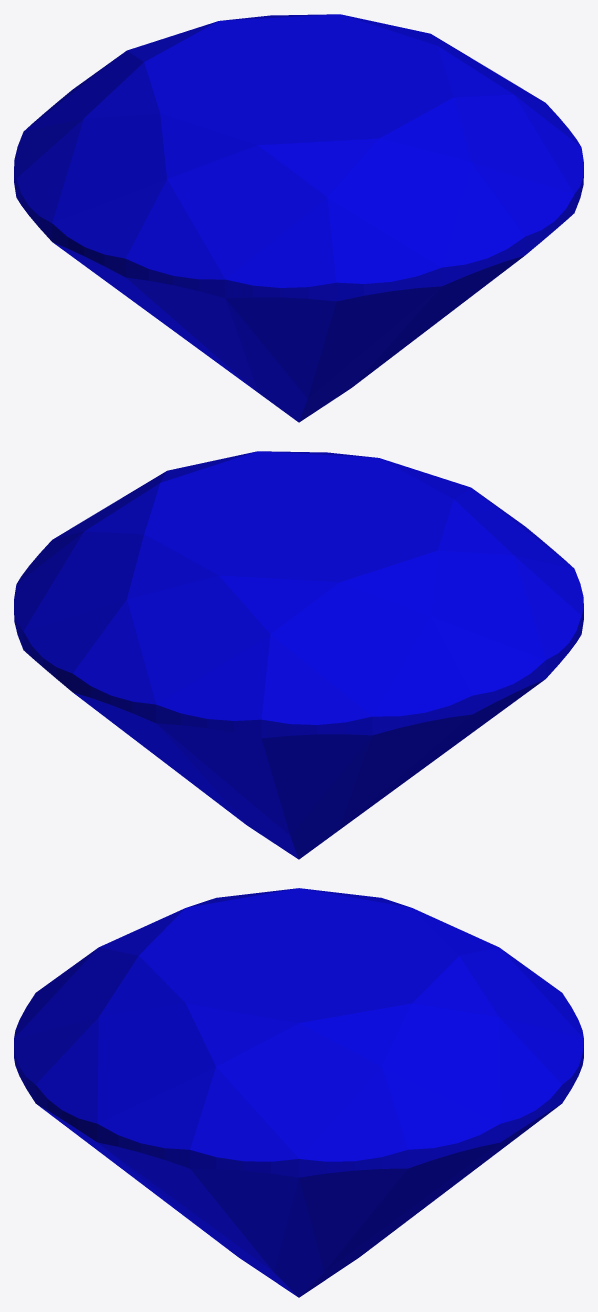
File: Head_Hidden Halo_Round_3.0ct_Diamond.glb
3 renders of one model, top to bottom at view 1: azimuth 30°, elevation 25°; view 2: azimuth 150°, elevation 25°; view 3: azimuth 270°, elevation 25°, orthographic.
Bounding box in the file's own units: 0.00922 × 0.00612 × 0.00924.
